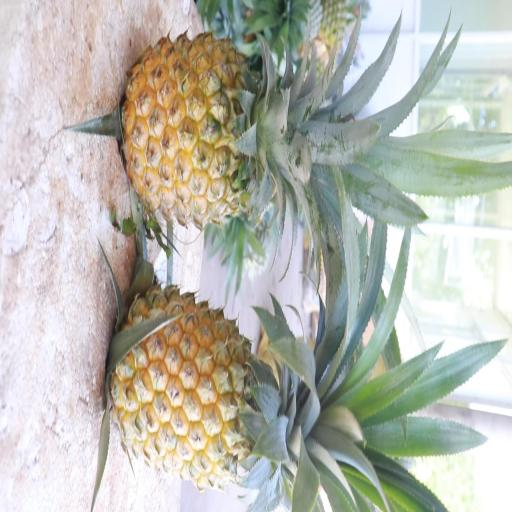Pineapple - v8 v1: (108, 282, 376, 492), (117, 28, 340, 236)
